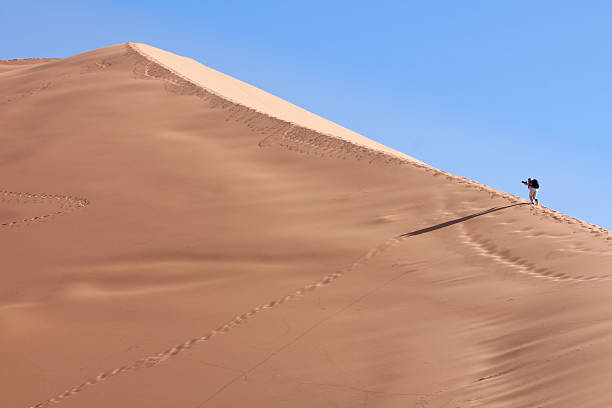human_footprint: (147, 62, 598, 235), (28, 238, 387, 405)
